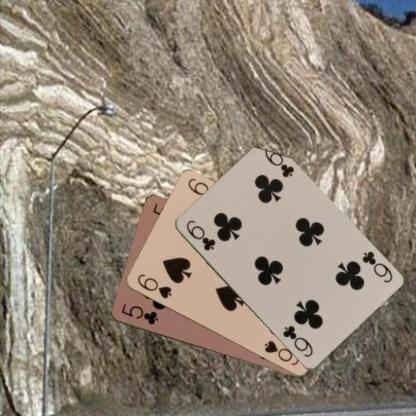5c: (118, 300, 160, 326)
6c: (358, 247, 394, 284), (182, 217, 216, 252)
6s: (134, 272, 173, 300)
